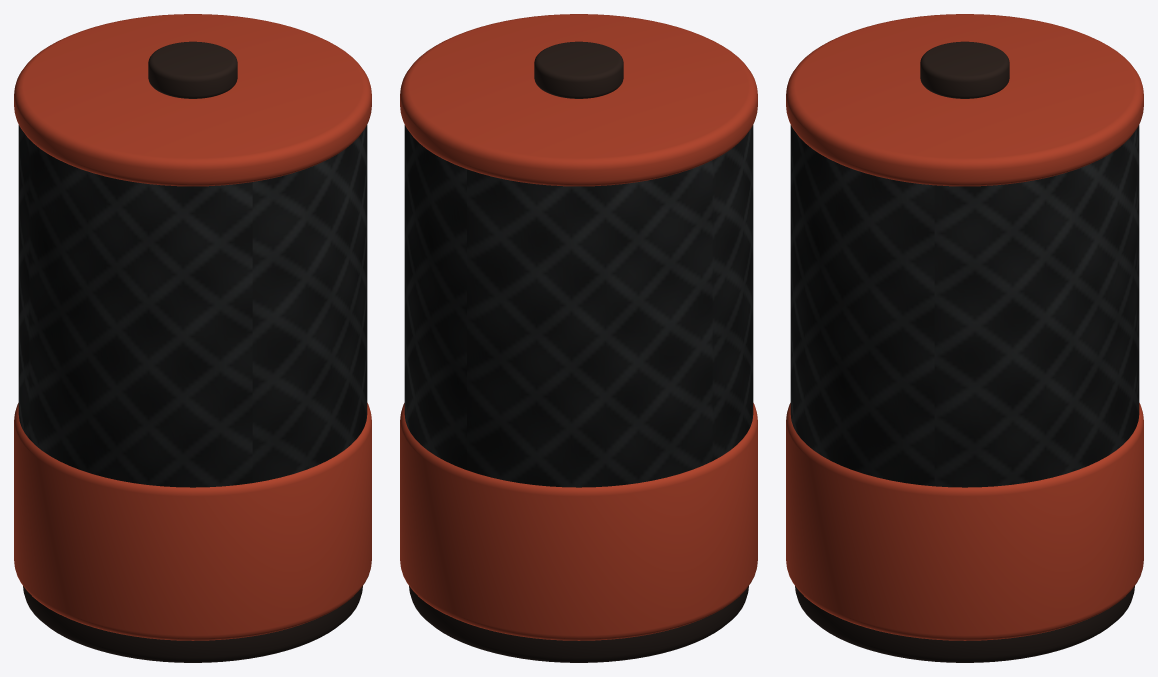
File: sonora-s1.glb
3 views of the same model, side by side, from view 1: azimuth 30°, elevation 25°; view 2: azimuth 150°, elevation 25°; view 3: azimuth 270°, elevation 25° (orthographic).
Parts seen in each view (by area): view 1: grille, shell, base, knob; view 2: grille, shell, base, knob; view 3: grille, shell, base, knob.
Boxes of the visible parts, box(x1,y1,x2,y2) form: grille: box(18, 125, 367, 487); shell: box(14, 14, 371, 640); base: box(23, 586, 362, 662); knob: box(148, 41, 237, 98); grille: box(404, 125, 753, 487); shell: box(400, 14, 757, 640); base: box(409, 586, 748, 662); knob: box(534, 41, 623, 98); grille: box(790, 125, 1139, 487); shell: box(786, 14, 1143, 640); base: box(795, 586, 1134, 662); knob: box(920, 41, 1009, 98).
Bounding box in the file's own units: 1 × 1.65 × 1.
Materials: 6 (1 with a texture image).
